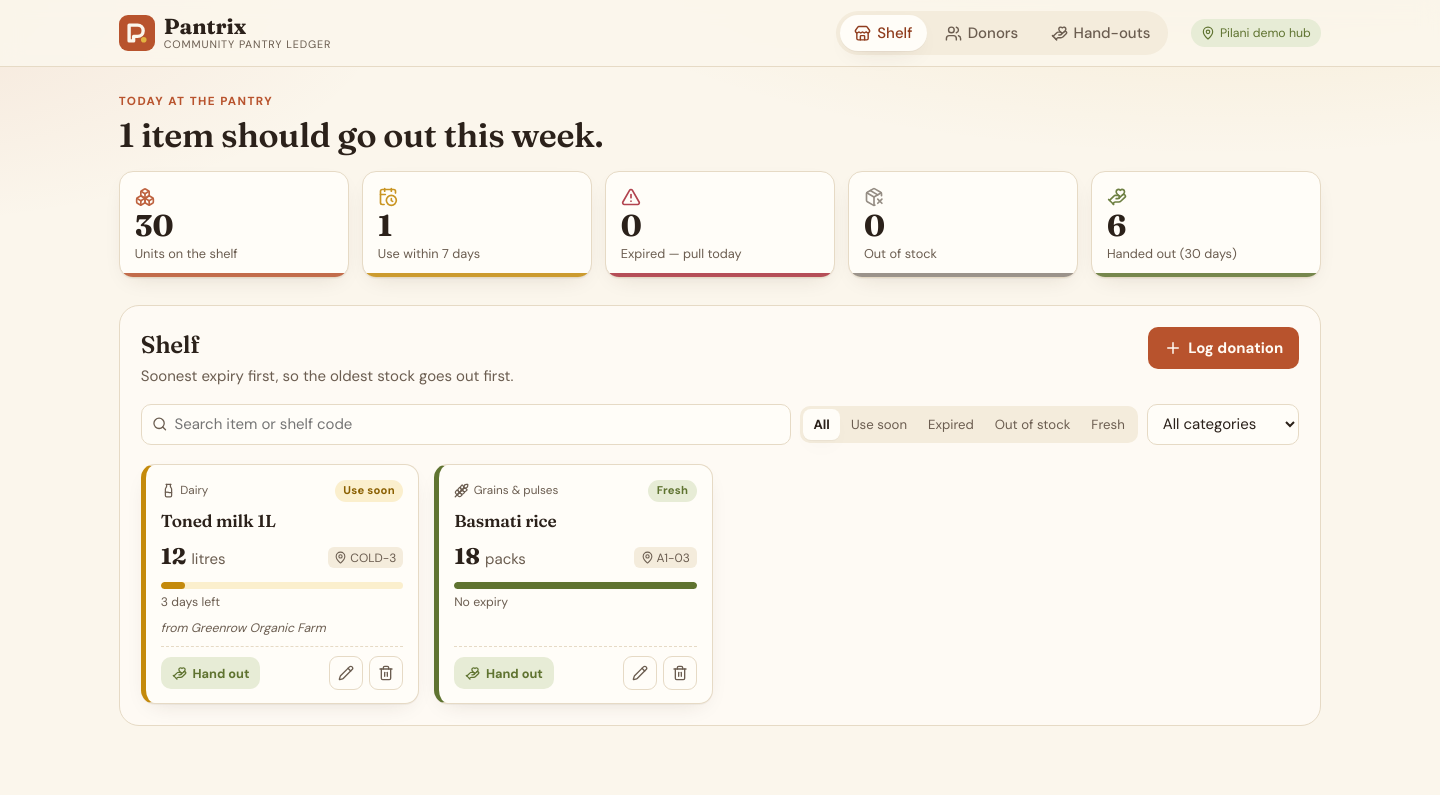
Scenario: Pantrix app › surfaces API validation errors inside the form
Expected: the heading "Toned milk 1L" is shown, [161,510,276,531]
Click the button "Log donation". click: (1224, 348)
box: [1148,327,1299,369]
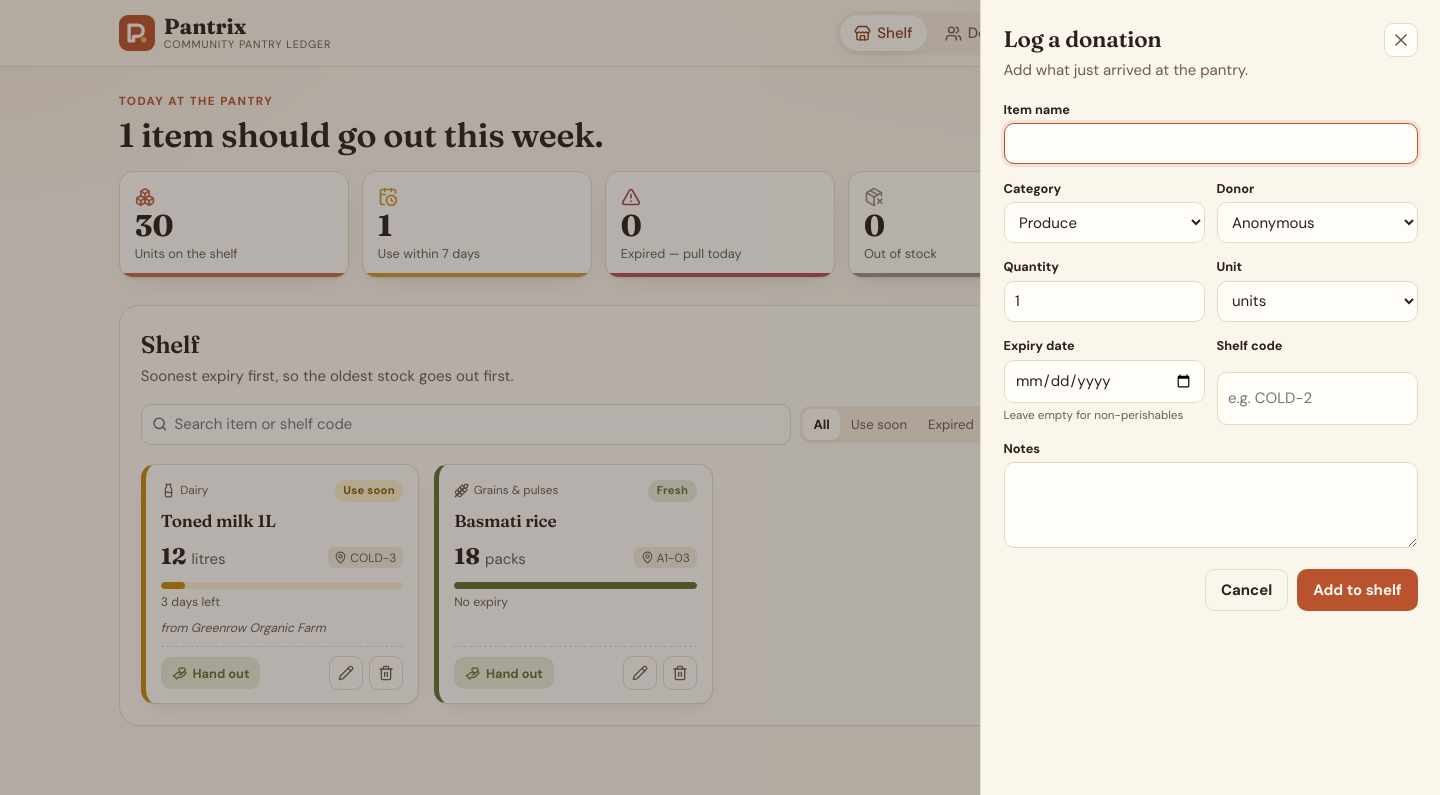
Type "Bad item" into the field labelled "Item name". click: (1210, 144)
box: [1004,123,1418,164]
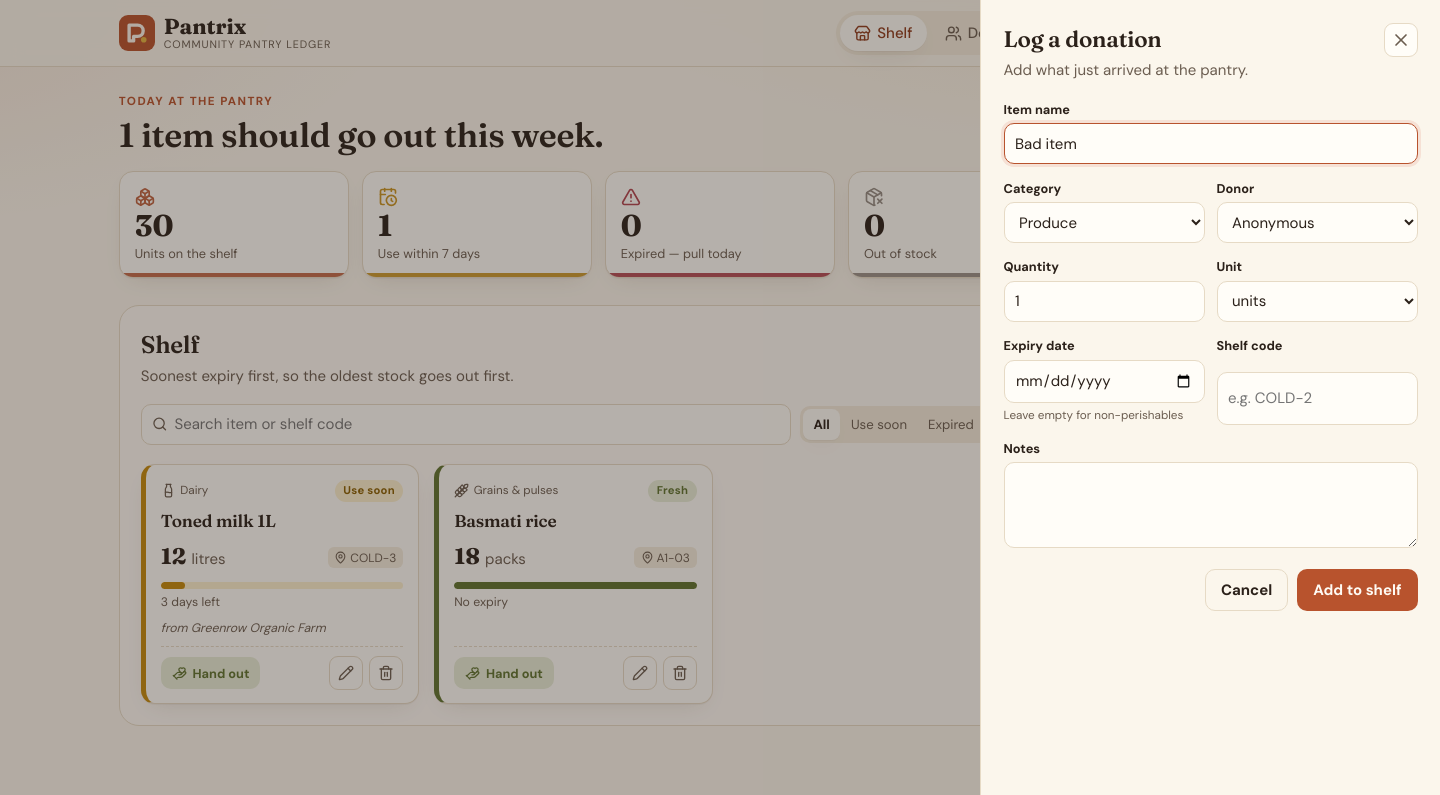
Click the button "Add to shelf". click: (1357, 590)
box: [1297,569,1418,611]
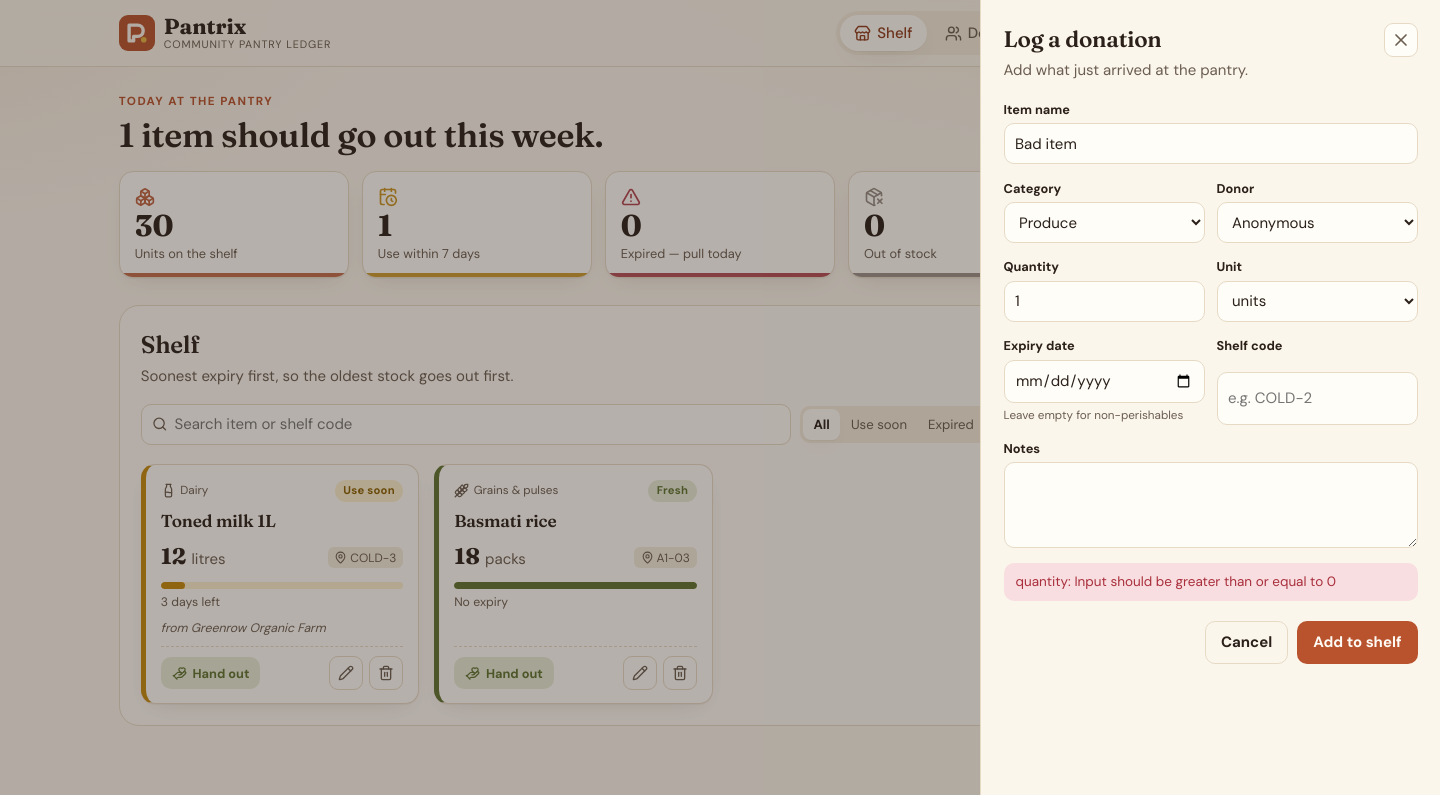
Expected: the message shows "quantity: Input should be greater", [1016,573,1336,590]
